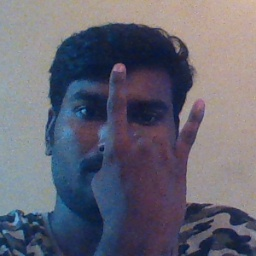V: (89, 59, 212, 230)
